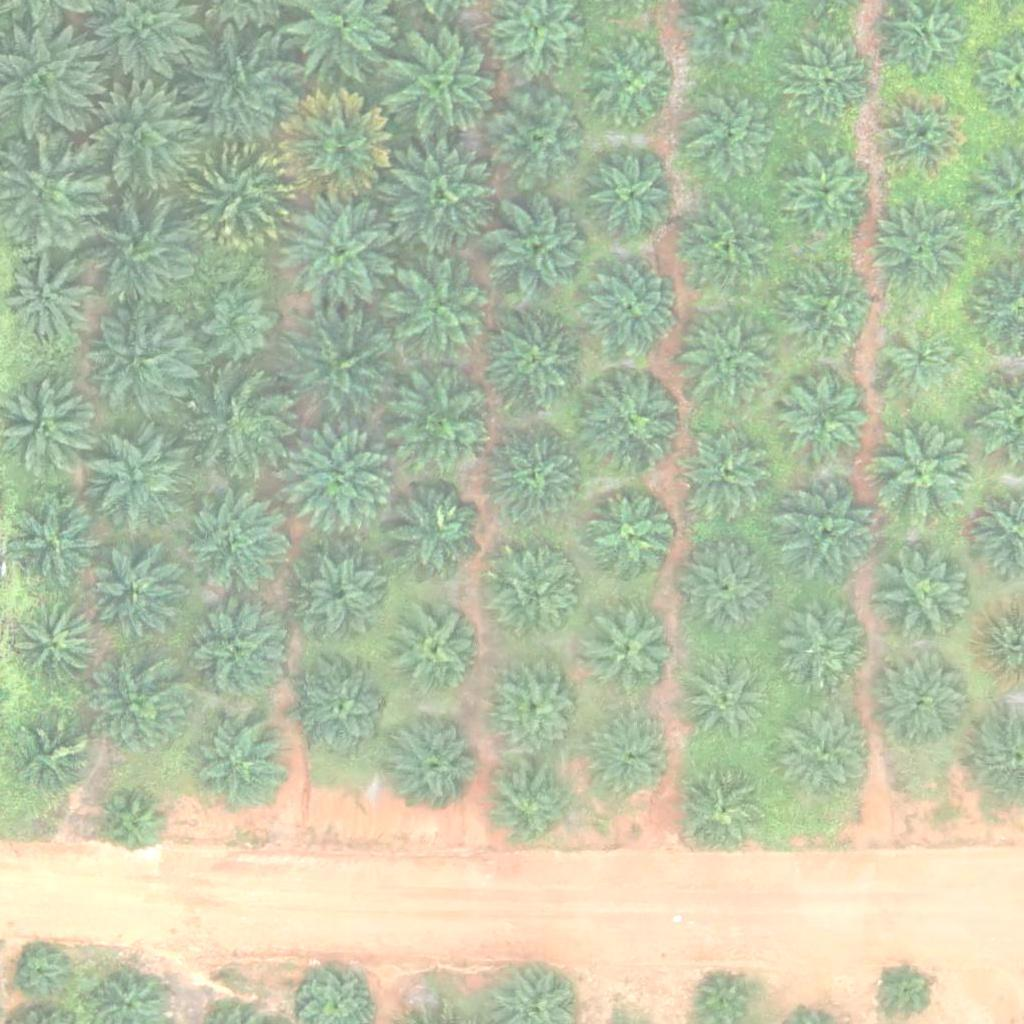Kelapa_Sawit: (282, 430, 395, 544), (191, 30, 304, 143), (384, 258, 497, 371), (280, 91, 393, 204), (182, 140, 295, 253), (282, 192, 395, 305), (279, 310, 392, 423), (83, 197, 195, 311), (87, 300, 199, 414), (390, 27, 502, 140), (383, 140, 495, 253), (80, 84, 192, 197), (877, 425, 977, 526), (777, 145, 877, 246), (778, 261, 878, 362), (776, 485, 876, 586), (683, 81, 783, 182), (680, 198, 780, 299), (679, 307, 779, 408), (678, 424, 778, 525), (676, 540, 776, 641), (579, 258, 679, 359), (584, 371, 684, 472), (489, 89, 589, 190), (487, 198, 587, 299), (485, 314, 585, 415), (487, 424, 587, 525), (395, 368, 495, 469), (86, 429, 186, 530), (3, 490, 103, 591), (90, 657, 190, 758), (184, 602, 284, 703), (189, 712, 289, 813), (773, 698, 873, 799), (875, 546, 975, 647), (873, 650, 973, 751), (872, 199, 972, 299), (384, 480, 484, 580), (191, 373, 291, 473), (184, 494, 284, 594), (295, 661, 395, 761), (387, 712, 487, 812), (489, 658, 589, 758), (786, 37, 874, 125), (586, 495, 674, 583), (292, 553, 380, 641), (13, 603, 101, 691), (586, 608, 674, 696), (588, 714, 676, 802), (684, 654, 772, 742), (681, 764, 769, 852), (878, 91, 965, 179), (781, 373, 868, 461), (586, 40, 673, 128), (589, 155, 676, 243), (492, 554, 579, 642), (93, 555, 180, 643), (5, 256, 92, 344), (395, 604, 482, 692), (489, 761, 576, 849), (788, 601, 875, 689), (884, 327, 959, 403), (200, 284, 275, 360), (20, 721, 95, 796), (99, 794, 162, 857), (872, 959, 935, 1022), (17, 949, 67, 999)
